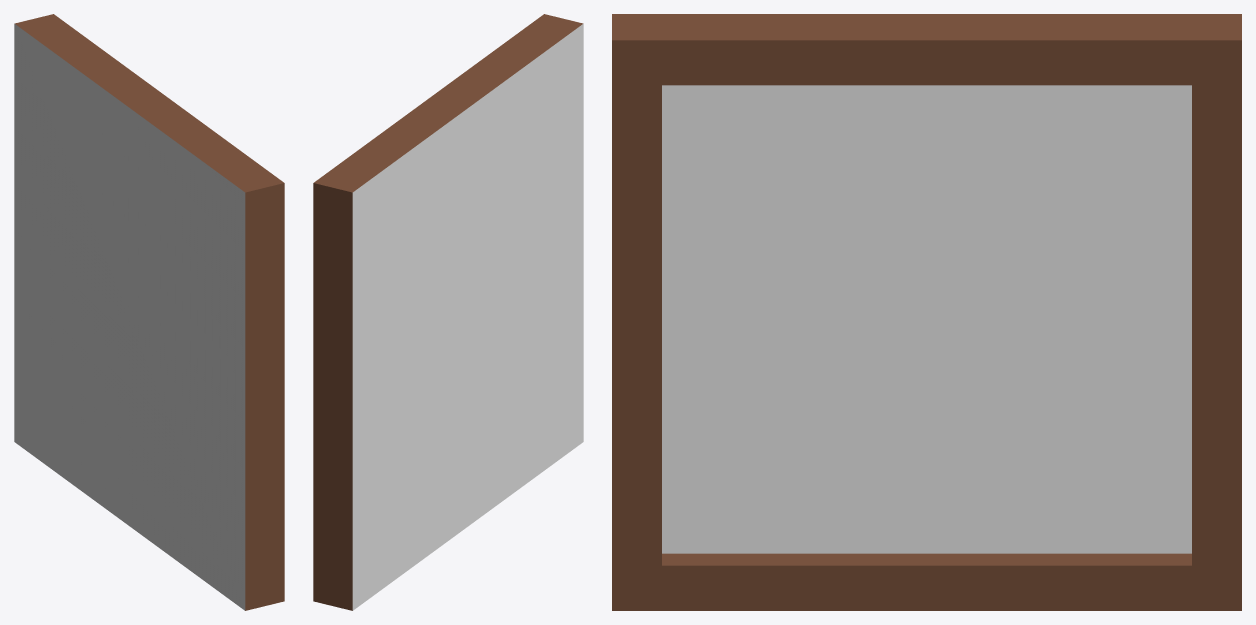
File: Espejo.fbx
3 views of the same model, side by side, from view 1: azimuth 30°, elevation 25°; view 2: azimuth 150°, elevation 25°; view 3: azimuth 270°, elevation 25° (orthographic). The views are drawn at different scales.
Parts seen in each view (by area): view 1: Cube.001; view 2: Cube.001; view 3: Cube.001.
Part boxes in pixels (x1,y1,x2,y2): Cube.001: [14, 14, 284, 610]; Cube.001: [313, 14, 583, 610]; Cube.001: [612, 14, 1241, 610].
Bounding box in the file's own units: 56.67 × 5.57 × 56.67.
